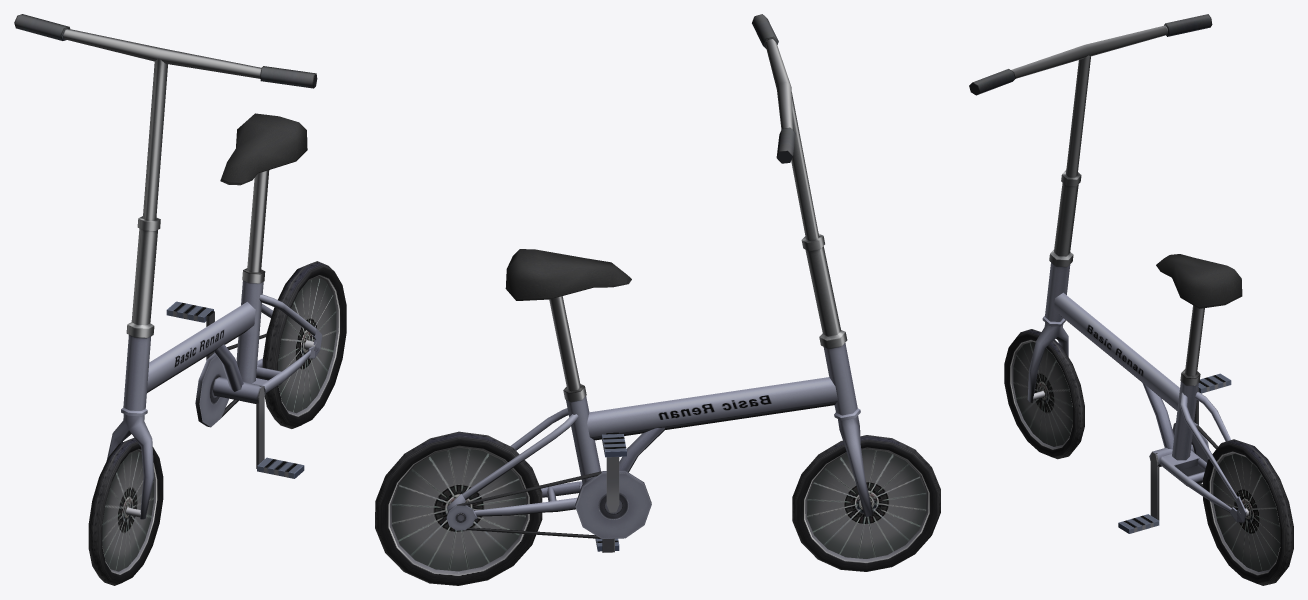
The model's file is SiWangPenQuan_01_zixinche_01.FBX.
3 views of the same model, side by side, from view 1: azimuth 30°, elevation 25°; view 2: azimuth 150°, elevation 25°; view 3: azimuth 270°, elevation 25° (orthographic). The views are drawn at different scales.
Parts seen in each view (by area): view 1: SiWangPenQuan_01_zixinche_01; view 2: SiWangPenQuan_01_zixinche_01; view 3: SiWangPenQuan_01_zixinche_01.
Boxes of the visible parts, x1,y1,x2,y2 form: SiWangPenQuan_01_zixinche_01: (14,14,346,585); SiWangPenQuan_01_zixinche_01: (375,14,940,585); SiWangPenQuan_01_zixinche_01: (969,14,1293,585).
Size of the model in its own units: 483 by 560 by 380.
